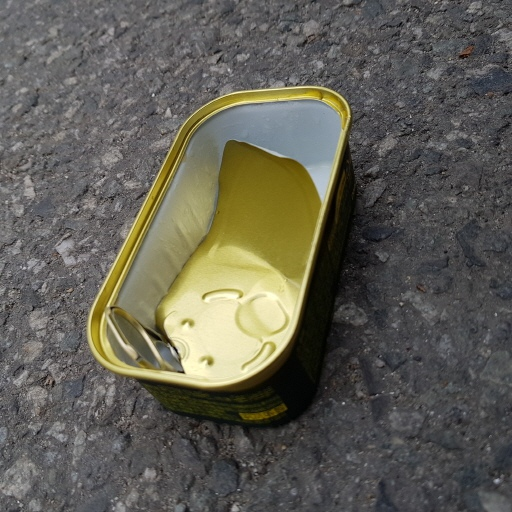Metal_2: (83, 85, 357, 421)
